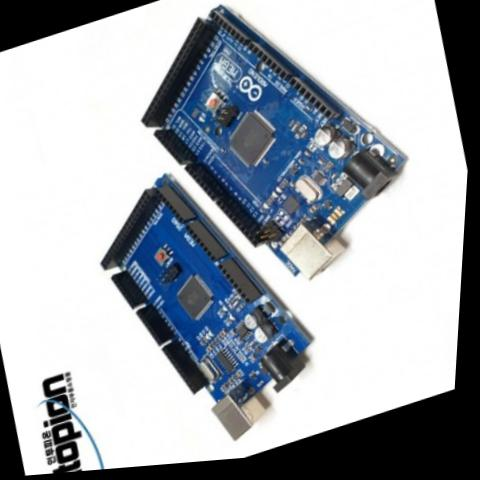Arduino-Mega: (100, 0, 453, 346)
